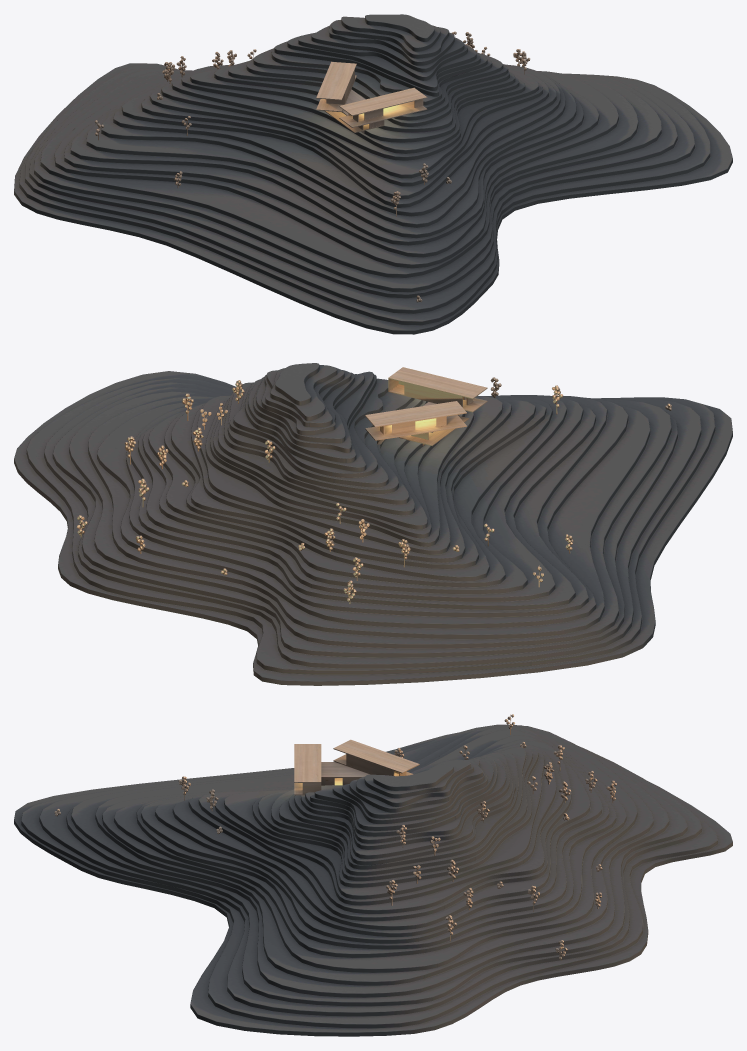
3 views of the same model, one above another, from view 1: azimuth 30°, elevation 25°; view 2: azimuth 150°, elevation 25°; view 3: azimuth 270°, elevation 25° (orthographic). The views are drawn at different scales.
Visible parts, largest first — view 1: hill, house, trees; view 2: hill, house, trees; view 3: hill, house, trees.
Boxes of the visible parts, x1,y1,x2,y2 form: hill: (14, 14, 732, 334); house: (316, 61, 427, 133); trees: (95, 31, 530, 302); hill: (14, 363, 732, 685); house: (365, 367, 487, 445); trees: (77, 377, 671, 604); hill: (14, 724, 732, 1036); house: (294, 739, 419, 795); trees: (54, 714, 616, 960).
Bounding box in the file's own units: 7.99 × 1.6 × 7.99.
Materials: 3 (3 with a texture image).
